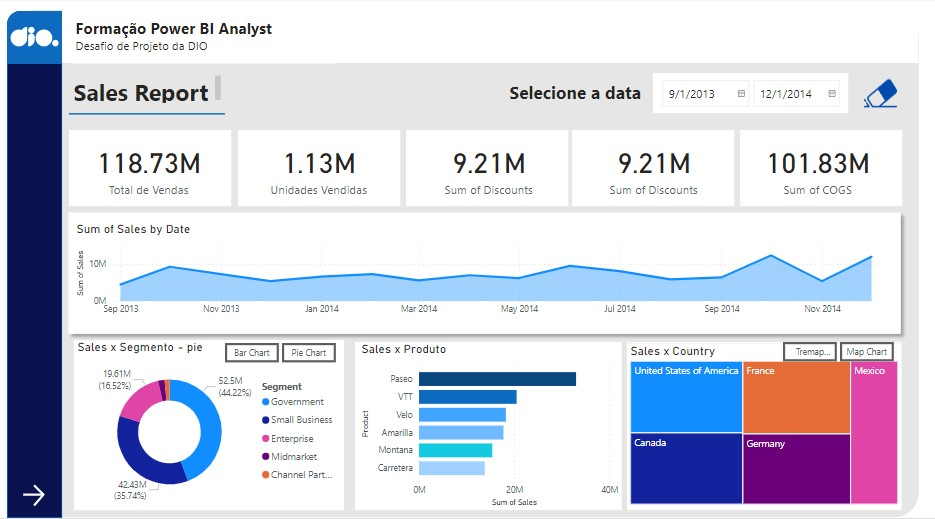

The page's visual inventory and layout, read from the dashboard file:
{"tool":"powerbi","page":{"name":"Página 1","canvas":[1280,720],"ordinal":0},"visuals":[{"type":"shape","box":[10,12.8,1270,707],"z":0},{"type":"slicer","fields":{"Values":["financials.Date"]},"box":[909.4,99.8,272.2,55.6],"z":0,"group":"g2"},{"type":"shape","box":[95.5,139.7,216.7,32.8],"z":0,"group":"g5"},{"type":"shape","box":[95.5,179.2,226.5,105.7],"z":0,"group":"g1"},{"type":"donutChart","title":"Sales x Segmento - pie","fields":{"Y":["Sum(financials. Sales)"],"Category":["financials.Segment"]},"box":[102.6,471.8,376.3,236.6],"z":0,"group":"g4"},{"type":"map","title":"Sales x Country","fields":{"Category":["financials.Country"],"Size":["Sum(financials. Sales)"]},"box":[873.8,476,382,228.1],"z":0,"group":"g3"},{"type":"actionButton","title":"Botão - bar","box":[312.8,476.4,74.5,26.6],"z":500,"group":"g4"},{"type":"actionButton","title":"Botão -pie","box":[392.6,476.4,74.5,26.6],"z":750,"group":"g4"},{"type":"shape","box":[10.1,13.4,77.2,706.3],"z":1000},{"type":"textbox","box":[96.9,98.4,215.2,48.5],"z":1000,"group":"g5"},{"type":"textbox","box":[704.1,105.5,199.6,45.6],"z":1000,"group":"g2"},{"type":"shape","box":[330.2,179.2,226.5,105.7],"z":1000,"group":"g1"},{"type":"treemap","title":"Sales x Country","fields":{"Group":["financials.Country"],"Values":["Sum(financials. Sales)"]},"box":[873.8,477.5,382,228.1],"z":1000,"group":"g3"},{"type":"actionButton","title":"Botão - map","box":[1170.8,475.2,74.5,26.6],"z":1250,"group":"g3"},{"type":"actionButton","title":"Botão - tremap","box":[1090.9,475.2,74.5,26.6],"z":1500,"group":"g3"},{"type":"shape","box":[10.1,13.4,77.2,73.8],"z":2000},{"type":"actionButton","box":[1195.9,104.1,59.9,51.3],"z":2000,"group":"g2"},{"type":"shape","box":[565.1,179.2,226.5,105.7],"z":2000,"group":"g1"},{"type":"image","title":"logo_dio","box":[10.1,18.5,77.2,62.1],"z":3000},{"type":"image","title":"clean","box":[1195.9,99.8,59.9,55.6],"z":3000,"group":"g2"},{"type":"shape","box":[796.6,179.2,226.5,105.7],"z":3000,"group":"g1"},{"type":"shape","box":[86.9,12.8,1193.1,74.1],"z":4000},{"type":"shape","box":[1029.7,179.2,226.5,105.7],"z":4000,"group":"g1"},{"type":"textbox","box":[100.7,18.5,365.7,68.8],"z":5000},{"type":"card","fields":{"Values":["Sum(financials. Sales)"]},"box":[101.2,179.6,211,105.5],"z":5000,"group":"g1"},{"type":"group","id":"g1","title":"Cartões","box":[95.5,179.2,1160.7,105.9],"z":6000},{"type":"card","fields":{"Values":["Sum(financials.Units Sold)"]},"box":[337.9,179.6,211,105.5],"z":6000,"group":"g1"},{"type":"card","fields":{"Values":["Sum(financials.Discounts)"]},"box":[804,179.6,211,105.5],"z":7000,"group":"g1"},{"type":"shape","box":[86.9,285.1,1177.4,186.7],"z":7000},{"type":"card","fields":{"Values":["Sum(financials.Discounts)"]},"box":[574.5,179.6,211,105.5],"z":8000,"group":"g1"},{"type":"shape","box":[494.6,474.7,370.6,233.8],"z":8000},{"type":"card","fields":{"Values":["Sum(financials.COGS)"]},"box":[1033.4,179.6,211,105.5],"z":9000,"group":"g1"},{"type":"shape","box":[873.8,474.7,382,233.8],"z":9000},{"type":"areaChart","fields":{"Category":["financials.Date.Variation.Hierarquia de datas.Mês"],"Y":["Sum(financials. Sales)"]},"box":[101.2,307.9,1143.2,139.7],"z":10000},{"type":"clusteredBarChart","title":"Sales x Produto","fields":{"Y":["Sum(financials. Sales)"],"Category":["financials.Product"]},"box":[498.3,474.5,366.9,233.8],"z":11000},{"type":"group","id":"g2","title":"Filtro por data","box":[704.1,99.8,551.6,55.6],"z":12000},{"type":"group","id":"g3","title":"Sales x país","box":[873.8,475.2,382,230.3],"z":13000},{"type":"group","id":"g4","title":"Sales x Segmento","box":[96,471.8,382.9,236.8],"z":14000},{"type":"group","id":"g5","title":"Title report","box":[95.5,98.4,216.7,74.1],"z":15000},{"type":"actionButton","box":[25.9,669,48.8,39.6],"z":16000}]}

Visuals, with their boxes on the page's 1280x720 design canvas (x1, y1, x2, y2). These are canvas units, not pixel positions in the 935x519 screenshot, which may show the page scaled, cropped or inside an application window:
shape: {"x1": 10, "y1": 13, "x2": 1280, "y2": 720}
slicer - financials.Date: {"x1": 909, "y1": 100, "x2": 1182, "y2": 155}
shape: {"x1": 96, "y1": 140, "x2": 312, "y2": 172}
shape: {"x1": 96, "y1": 179, "x2": 322, "y2": 285}
"Sales x Segmento - pie" donutChart: {"x1": 103, "y1": 472, "x2": 479, "y2": 708}
"Sales x Country" map: {"x1": 874, "y1": 476, "x2": 1256, "y2": 704}
"Botão - bar" actionButton: {"x1": 313, "y1": 476, "x2": 387, "y2": 503}
"Botão -pie" actionButton: {"x1": 393, "y1": 476, "x2": 467, "y2": 503}
shape: {"x1": 10, "y1": 13, "x2": 87, "y2": 720}
textbox: {"x1": 97, "y1": 98, "x2": 312, "y2": 147}
textbox: {"x1": 704, "y1": 106, "x2": 904, "y2": 151}
shape: {"x1": 330, "y1": 179, "x2": 557, "y2": 285}
"Sales x Country" treemap: {"x1": 874, "y1": 478, "x2": 1256, "y2": 706}
"Botão - map" actionButton: {"x1": 1171, "y1": 475, "x2": 1245, "y2": 502}
"Botão - tremap" actionButton: {"x1": 1091, "y1": 475, "x2": 1165, "y2": 502}
shape: {"x1": 10, "y1": 13, "x2": 87, "y2": 87}
actionButton: {"x1": 1196, "y1": 104, "x2": 1256, "y2": 155}
shape: {"x1": 565, "y1": 179, "x2": 792, "y2": 285}
"logo_dio" image: {"x1": 10, "y1": 18, "x2": 87, "y2": 81}
"clean" image: {"x1": 1196, "y1": 100, "x2": 1256, "y2": 155}
shape: {"x1": 797, "y1": 179, "x2": 1023, "y2": 285}
shape: {"x1": 87, "y1": 13, "x2": 1280, "y2": 87}
shape: {"x1": 1030, "y1": 179, "x2": 1256, "y2": 285}
textbox: {"x1": 101, "y1": 18, "x2": 466, "y2": 87}
card - Sum(financials. Sales): {"x1": 101, "y1": 180, "x2": 312, "y2": 285}
"Cartões" group: {"x1": 96, "y1": 179, "x2": 1256, "y2": 285}
card - Sum(financials.Units Sold): {"x1": 338, "y1": 180, "x2": 549, "y2": 285}
card - Sum(financials.Discounts): {"x1": 804, "y1": 180, "x2": 1015, "y2": 285}
shape: {"x1": 87, "y1": 285, "x2": 1264, "y2": 472}
card - Sum(financials.Discounts): {"x1": 574, "y1": 180, "x2": 786, "y2": 285}
shape: {"x1": 495, "y1": 475, "x2": 865, "y2": 708}
card - Sum(financials.COGS): {"x1": 1033, "y1": 180, "x2": 1244, "y2": 285}
shape: {"x1": 874, "y1": 475, "x2": 1256, "y2": 708}
areaChart - financials.Date.Variation.Hierarquia de datas.Mês x Sum(financials. Sales): {"x1": 101, "y1": 308, "x2": 1244, "y2": 448}
"Sales x Produto" clusteredBarChart: {"x1": 498, "y1": 474, "x2": 865, "y2": 708}
"Filtro por data" group: {"x1": 704, "y1": 100, "x2": 1256, "y2": 155}
"Sales x país" group: {"x1": 874, "y1": 475, "x2": 1256, "y2": 706}
"Sales x Segmento" group: {"x1": 96, "y1": 472, "x2": 479, "y2": 709}
"Title report" group: {"x1": 96, "y1": 98, "x2": 312, "y2": 172}
actionButton: {"x1": 26, "y1": 669, "x2": 75, "y2": 709}
